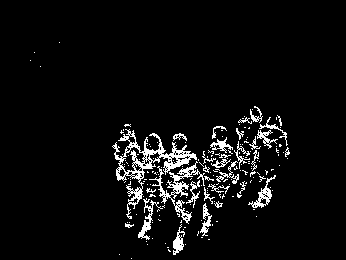person: (198, 123, 239, 243), (166, 130, 202, 255), (136, 132, 170, 242), (254, 112, 290, 213), (112, 123, 144, 233), (235, 103, 258, 197)
